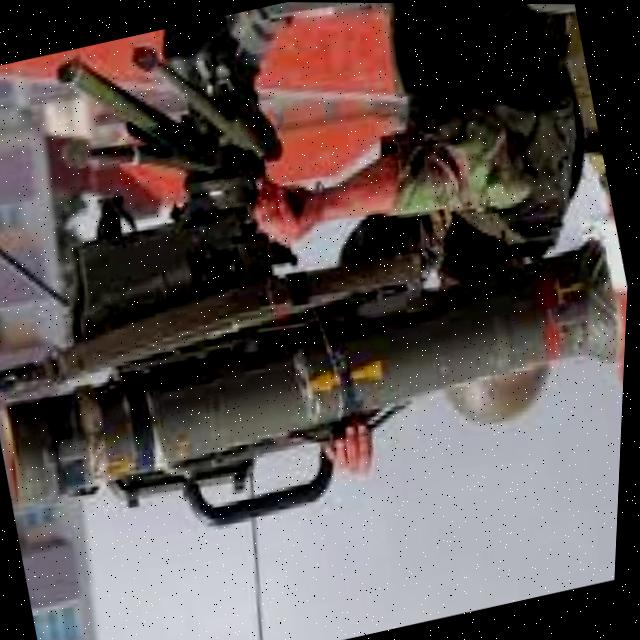rocket: (0, 192, 633, 568)
